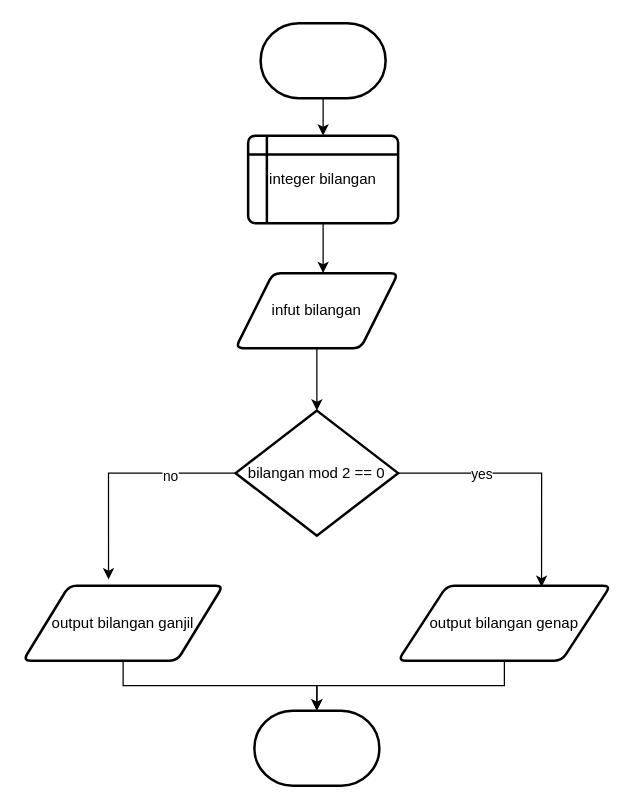
Image size: 633x808. Some labels were removed from this diagram. Each missing label, with the centre of its shape:
"end" belongs at [316,747].
"start" belongs at [322,60].
